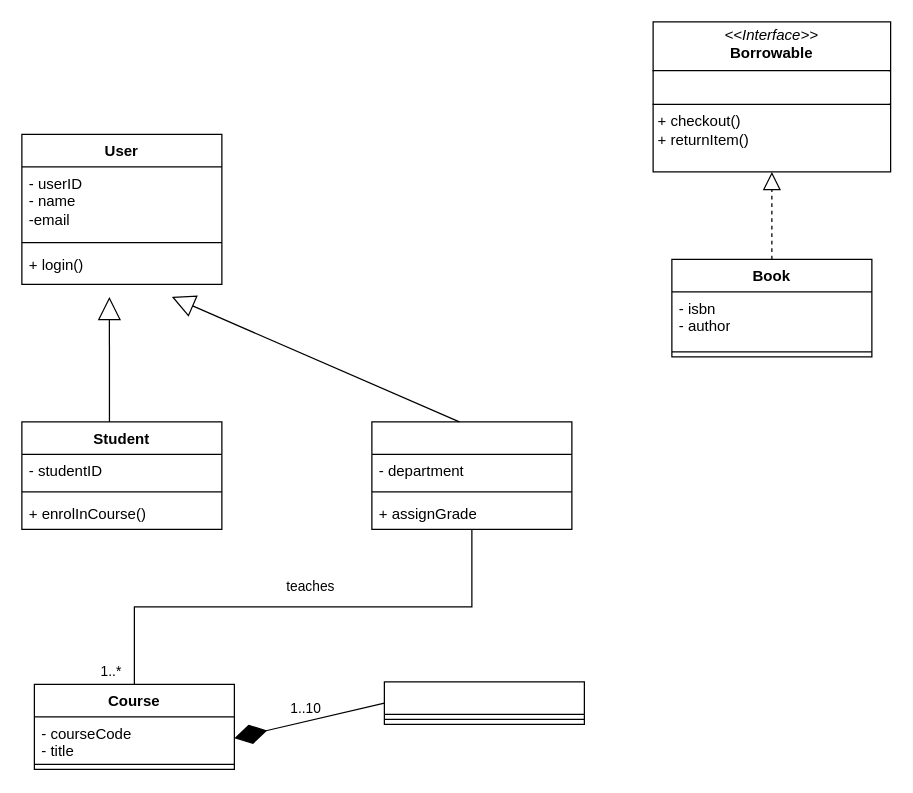
Image size: 913x793. Some labels were removed from this diagram. Each missing label, with the box of its shape:
Module: (383, 681, 584, 724)
Profesor: (371, 421, 572, 529)
